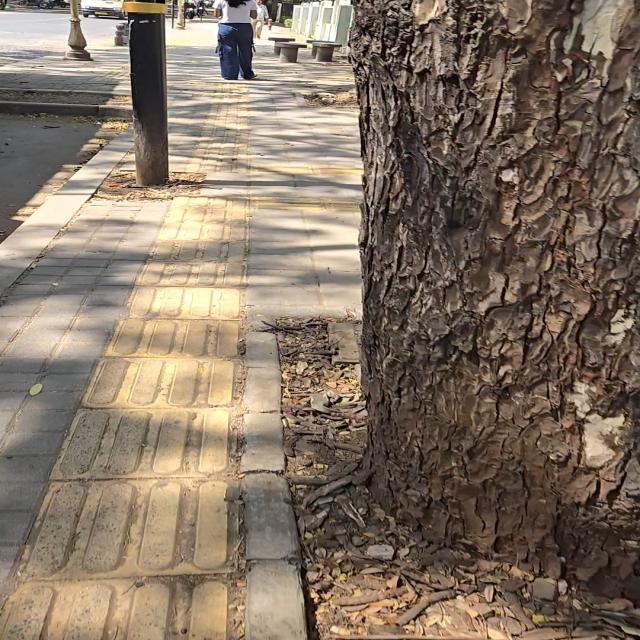auto: (313, 43, 341, 62), (307, 39, 336, 57), (280, 43, 306, 62), (269, 37, 295, 54)
bike: (124, 2, 168, 185), (214, 0, 257, 79), (65, 0, 91, 60), (254, 0, 269, 38), (176, 0, 184, 29)
